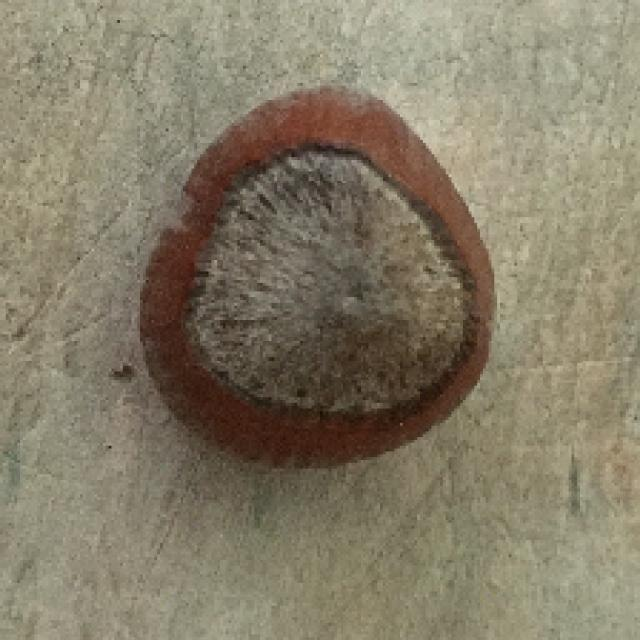QualityHazelnut: (134, 83, 499, 474)
